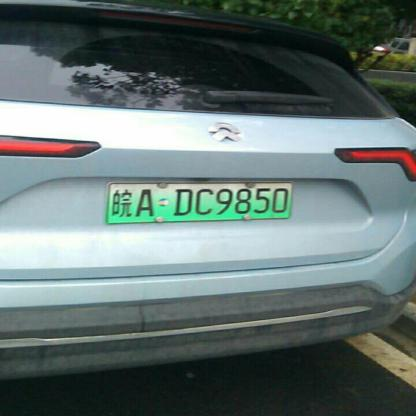lp: (107, 182, 292, 222)
